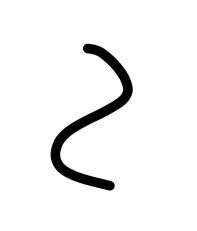a: (69, 35, 147, 136)
